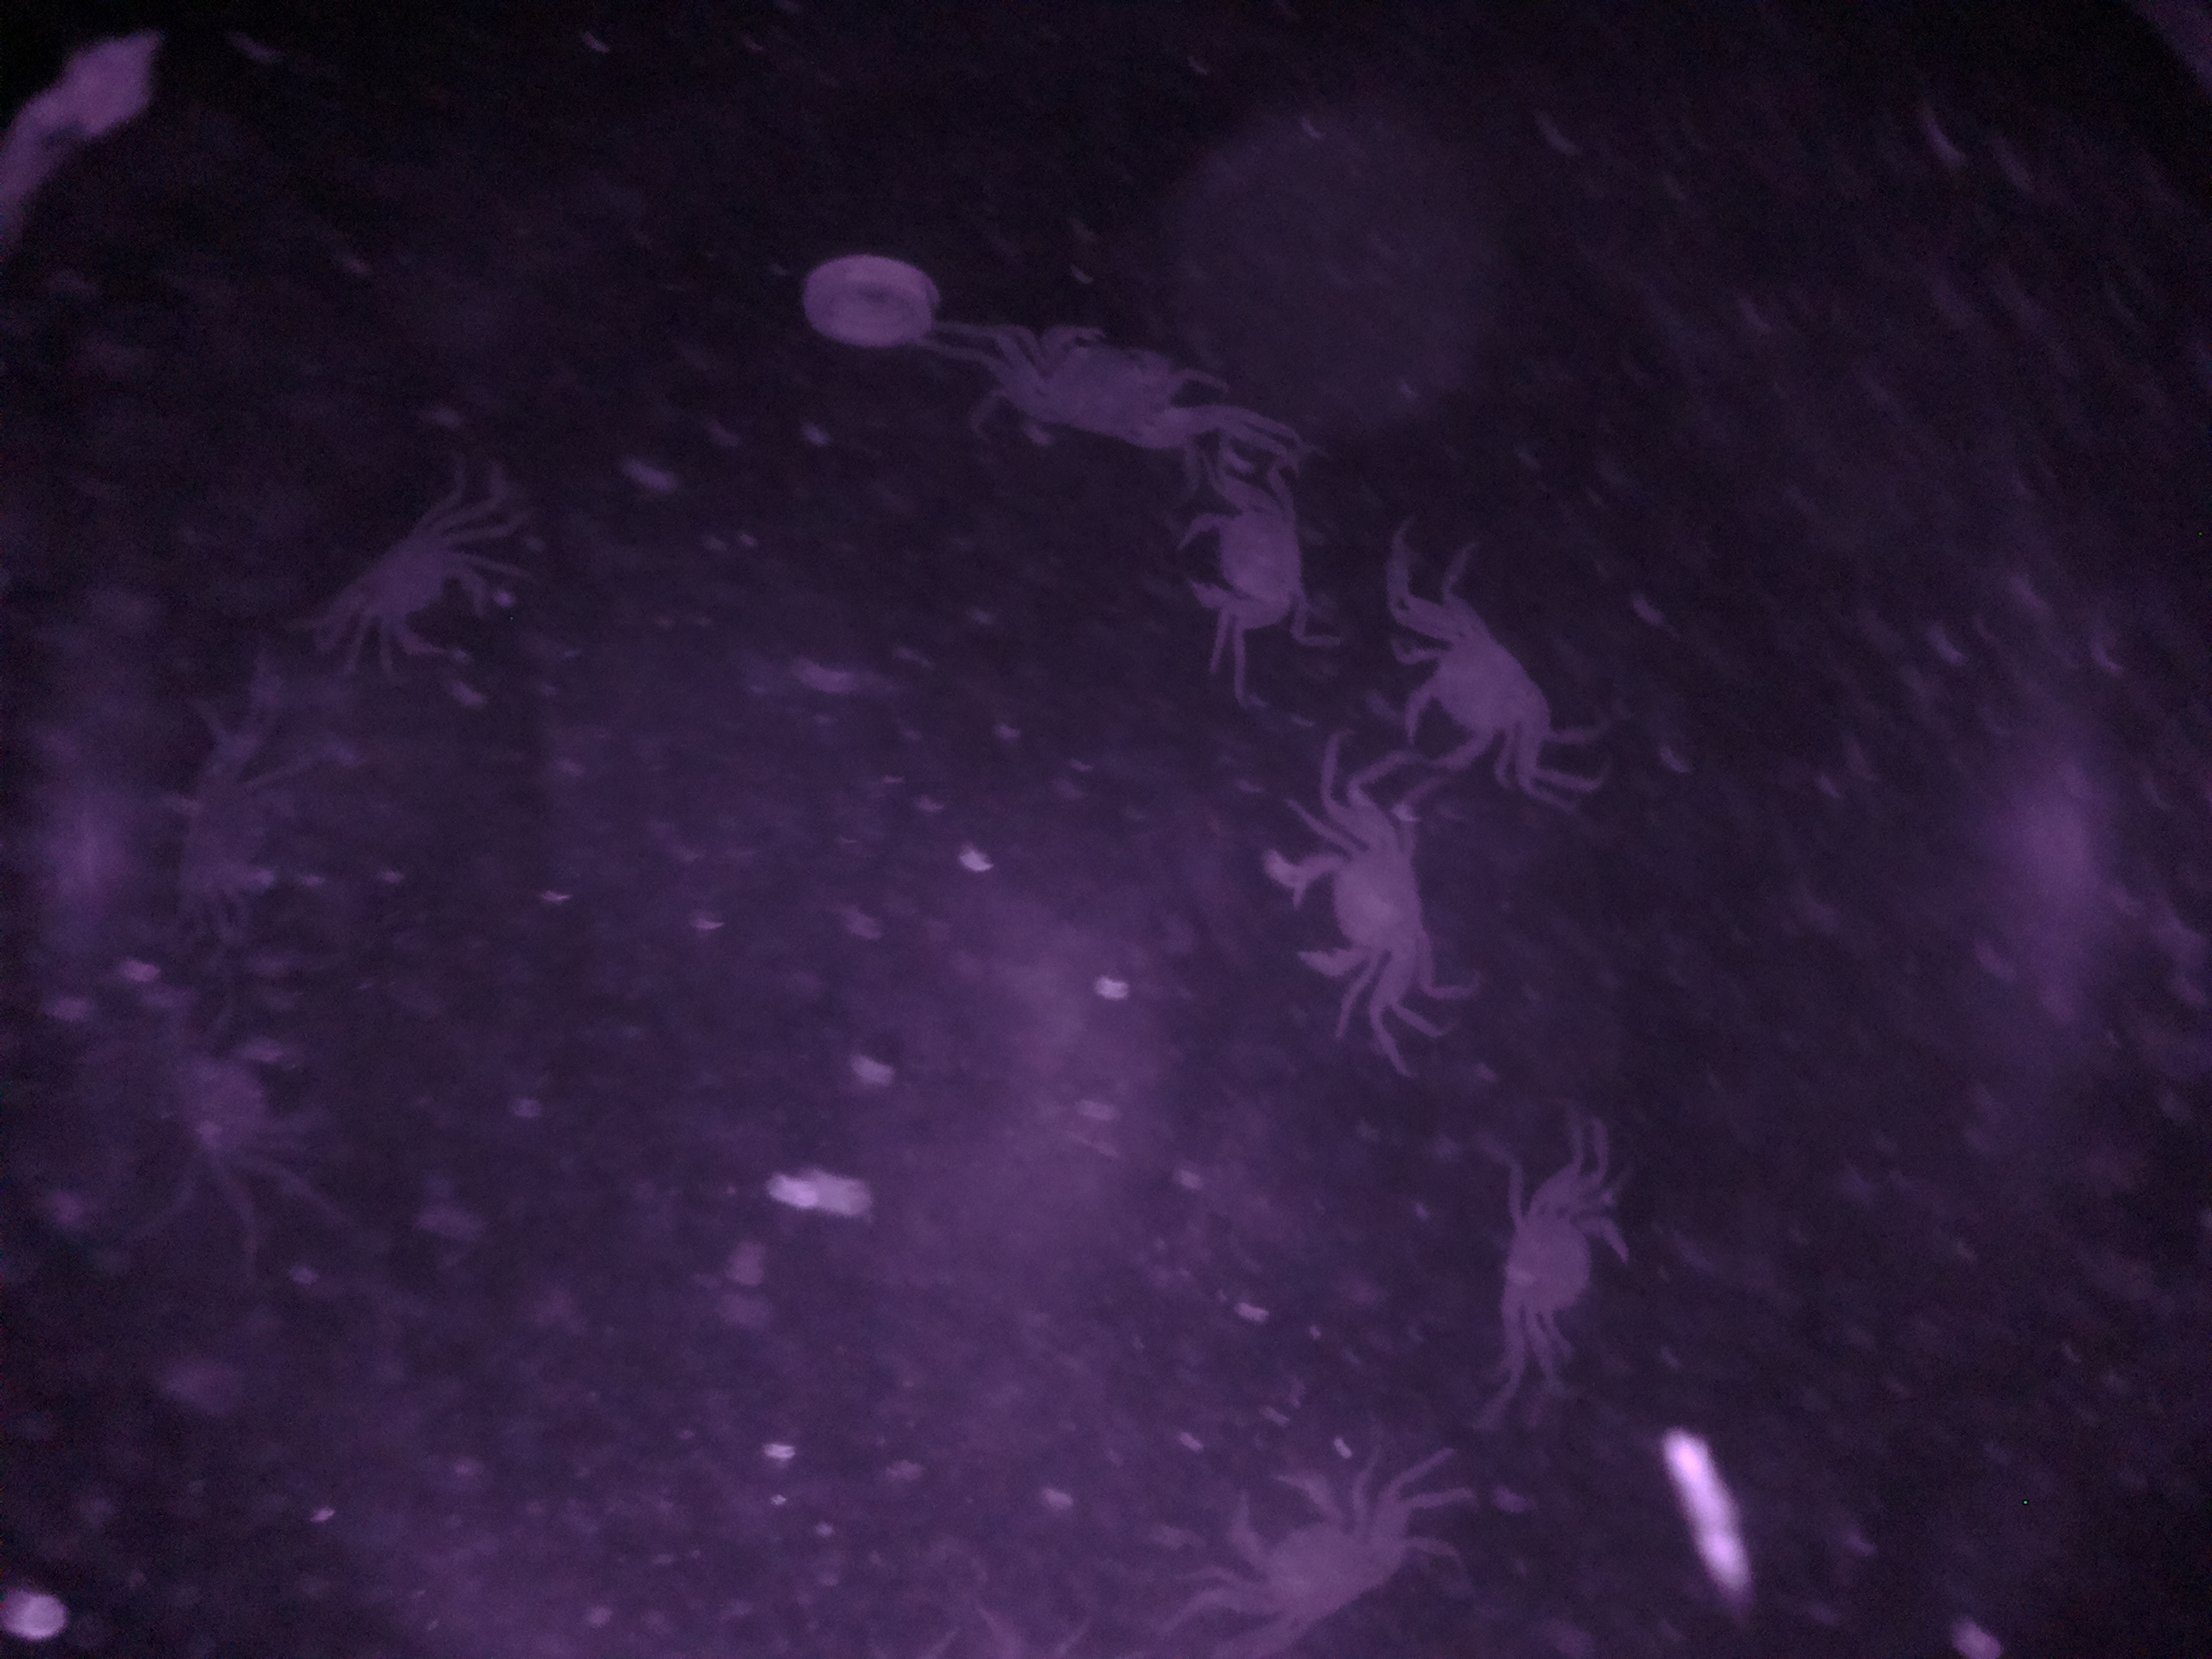Crab: (1186, 1455, 1426, 1640), (1379, 584, 1580, 802), (1475, 1150, 1637, 1377), (991, 307, 1212, 460), (1258, 816, 1447, 993), (1162, 483, 1327, 650)
